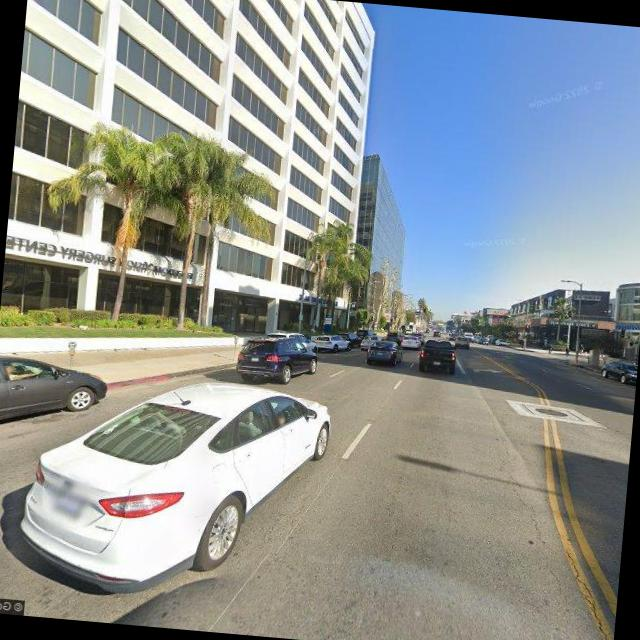pothole: (489, 449, 560, 550), (558, 542, 621, 640)
